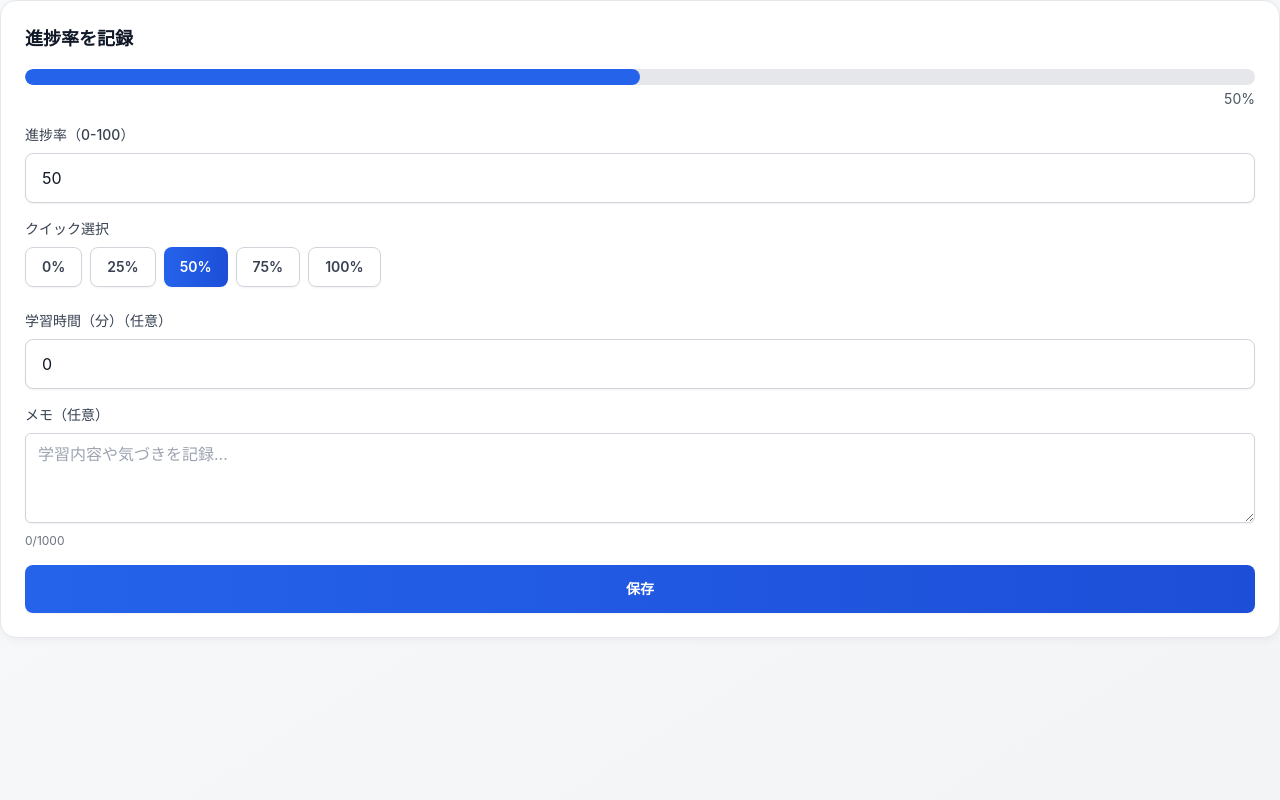
ProgressInputForm › タスク6.1: リアルタイムバリデーション › 非整数の値でエラーメッセージを表示する
Replace the text in the number field labelled "進捗率（0-100）" with "50.5" at (640, 178), box top-left (25, 153), bottom-right (1255, 203)
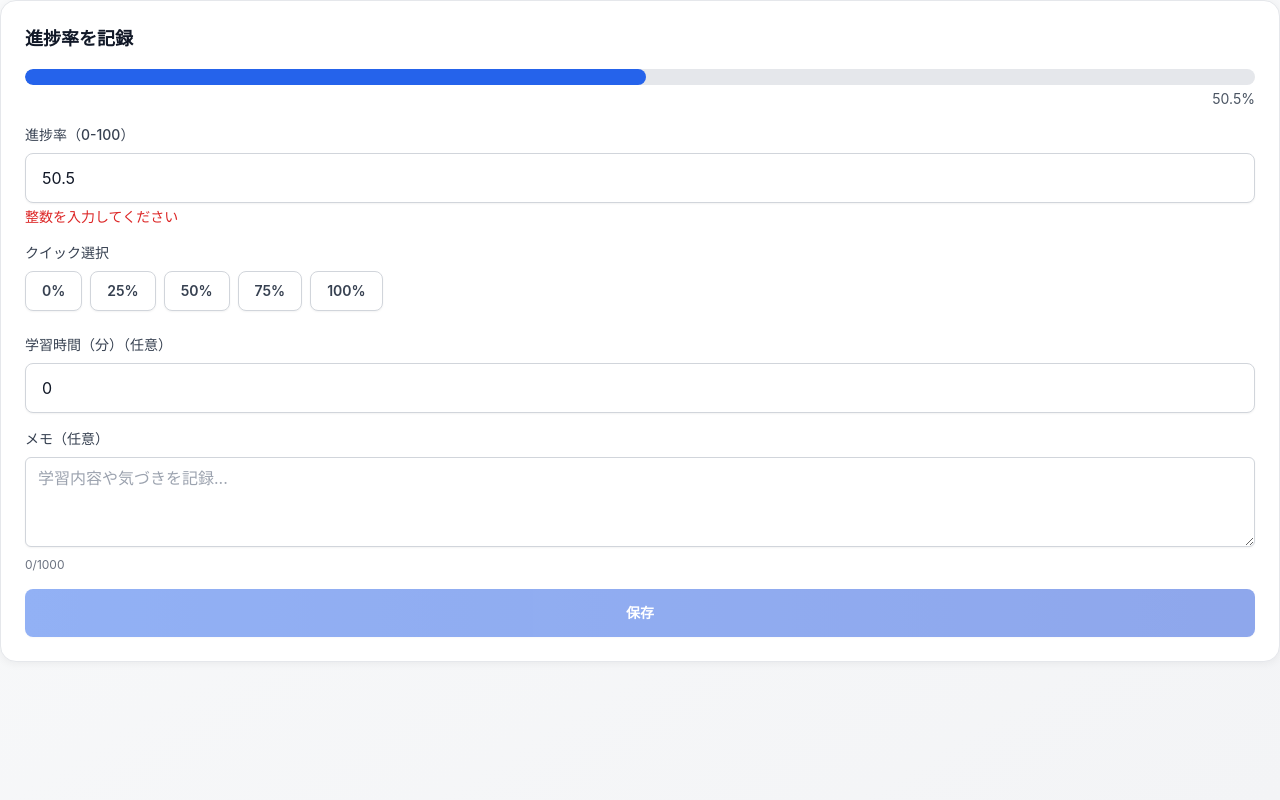
expect the text "整数を入力してください" is shown: met, box top-left (25, 208), bottom-right (178, 225)
